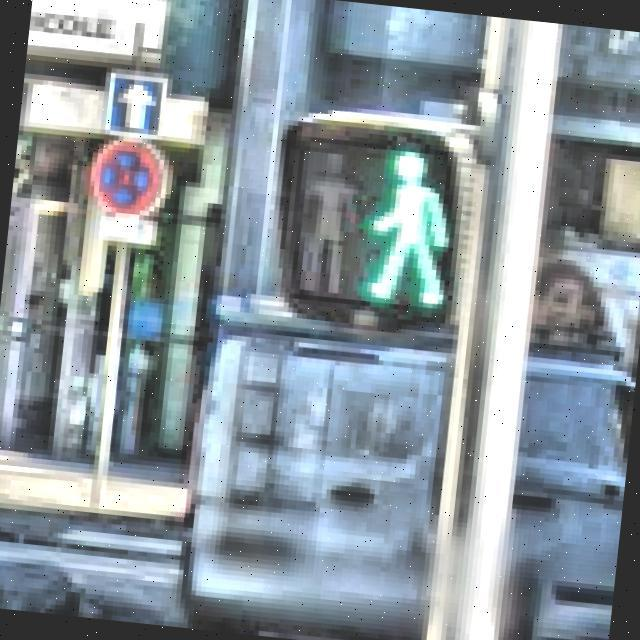green_light: (350, 136, 464, 308)
